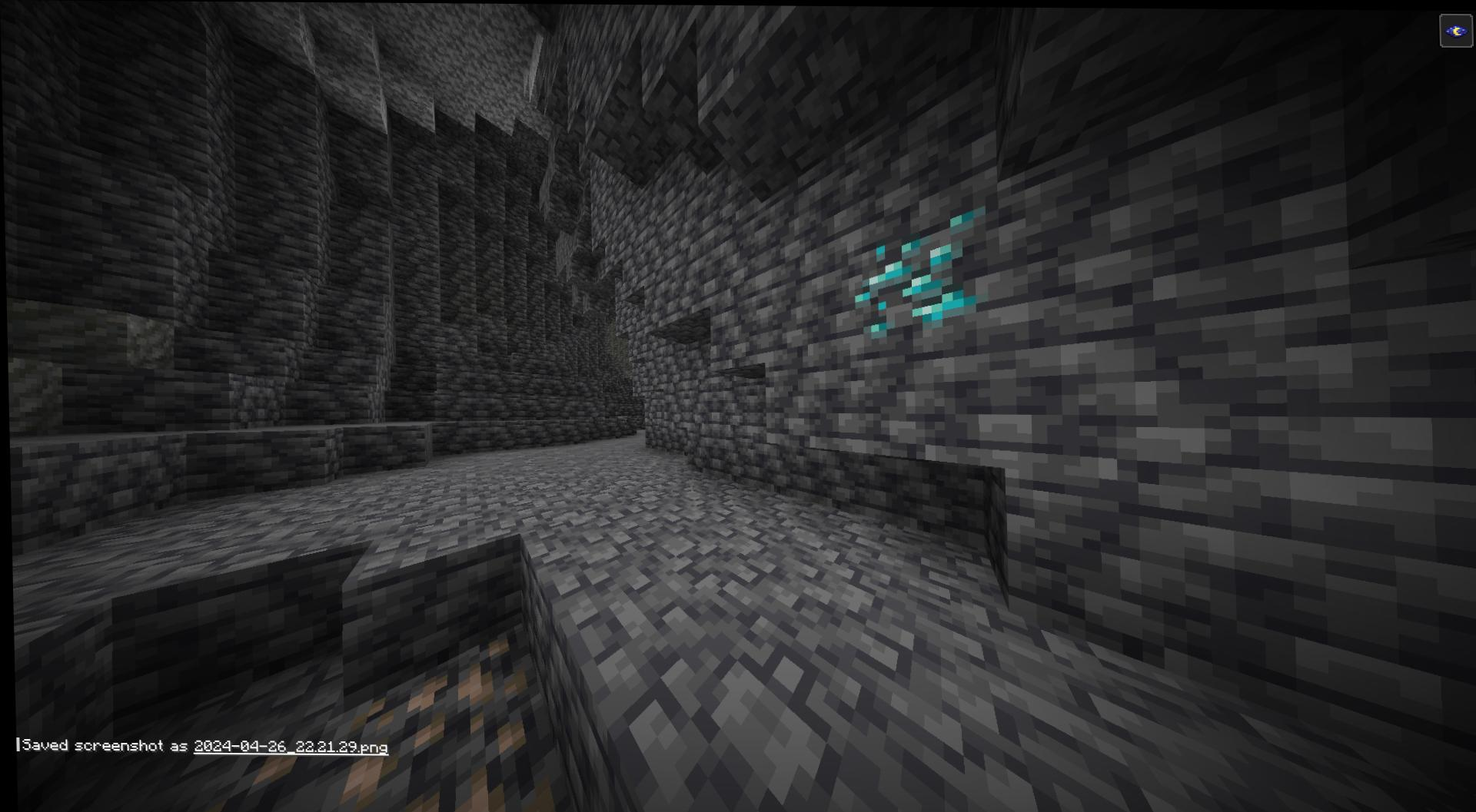diamond ore: (848, 218, 988, 341)
iron ore: (233, 632, 571, 812)
